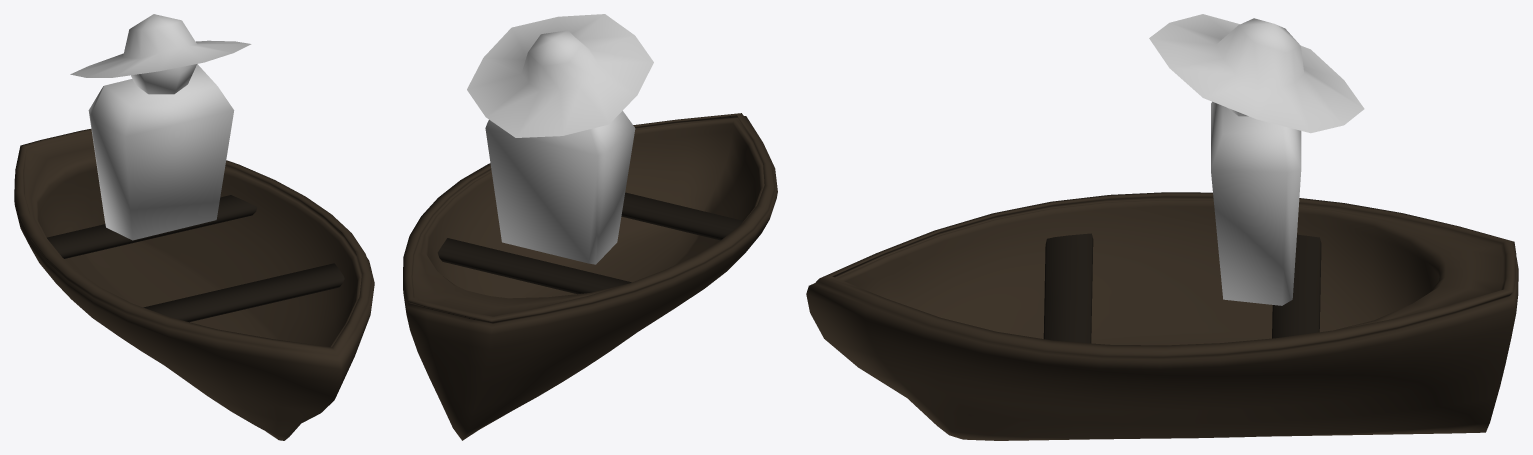
Rendered from boat.obj.
3 renders of one model, left to right at view 1: azimuth 30°, elevation 25°; view 2: azimuth 150°, elevation 25°; view 3: azimuth 270°, elevation 25°, orthographic. The views are drawn at different scales.
Parts seen in each view (by area): view 1: Boat_Cube.001_Boat_Cube.001_Wood, Boat_Cube.001_Boat_Cube.001_Material.001, Boat_Cube.001_Boat_Cube.001_Dark_wood; view 2: Boat_Cube.001_Boat_Cube.001_Wood, Boat_Cube.001_Boat_Cube.001_Material.001, Boat_Cube.001_Boat_Cube.001_Dark_wood; view 3: Boat_Cube.001_Boat_Cube.001_Wood, Boat_Cube.001_Boat_Cube.001_Material.001, Boat_Cube.001_Boat_Cube.001_Dark_wood.
Part boxes in pixels (x1=…): Boat_Cube.001_Boat_Cube.001_Wood: x1=14, y1=129, x2=374, y2=440; Boat_Cube.001_Boat_Cube.001_Material.001: x1=70, y1=14, x2=251, y2=240; Boat_Cube.001_Boat_Cube.001_Dark_wood: x1=47, y1=195, x2=344, y2=322; Boat_Cube.001_Boat_Cube.001_Wood: x1=403, y1=113, x2=777, y2=440; Boat_Cube.001_Boat_Cube.001_Material.001: x1=467, y1=14, x2=653, y2=264; Boat_Cube.001_Boat_Cube.001_Dark_wood: x1=437, y1=192, x2=743, y2=294; Boat_Cube.001_Boat_Cube.001_Wood: x1=806, y1=192, x2=1518, y2=440; Boat_Cube.001_Boat_Cube.001_Material.001: x1=1149, y1=14, x2=1364, y2=305; Boat_Cube.001_Boat_Cube.001_Dark_wood: x1=1043, y1=233, x2=1321, y2=343.
Size of the model in its own units: 1.4 by 1.69 by 2.61.
